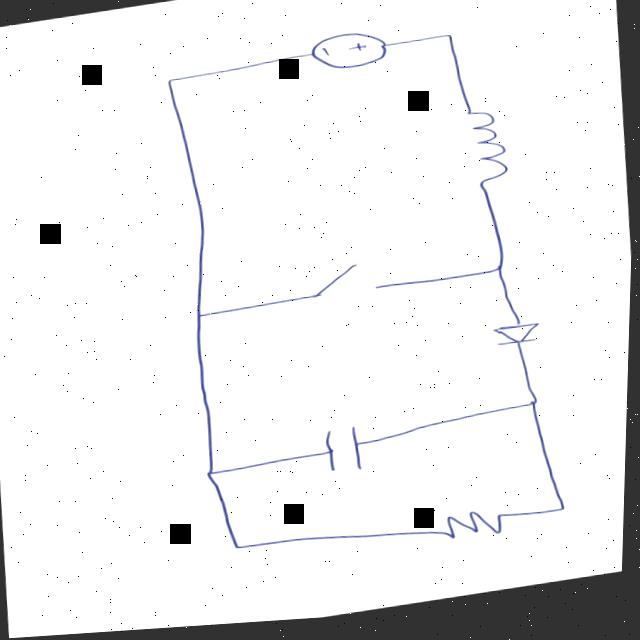capacitor: (303, 417, 390, 488)
diode: (480, 315, 556, 365)
inductor: (436, 100, 531, 205)
resistor: (409, 506, 527, 562)
source: (308, 26, 388, 84)
switch: (296, 257, 417, 319)
